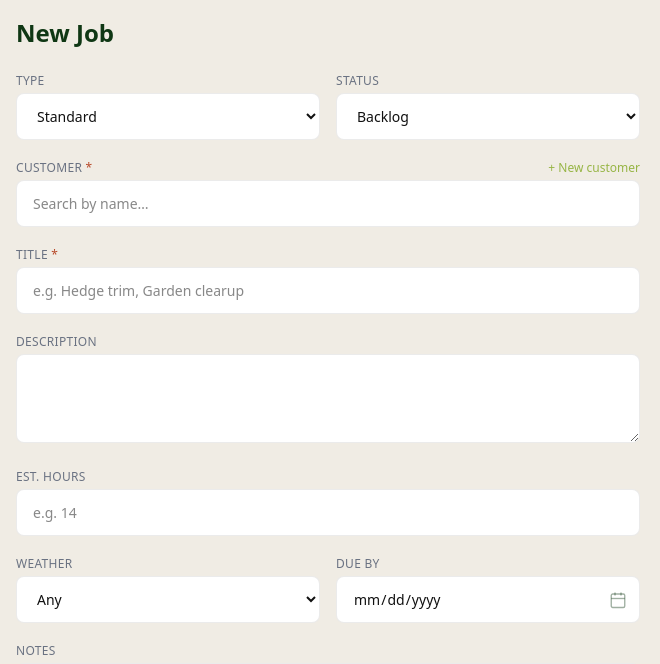
Test: JobForm — Add mode › shows scheduled date input when status is changed to scheduled
The width and height of the screenshot is (660, 664).
Check: the heading "New Job" is shown, box x1=16 y1=16 x2=114 y2=49
Select "Scheduled" in the dropdown below "Status" at (488, 116), box x1=336 y1=93 x2=640 y2=140
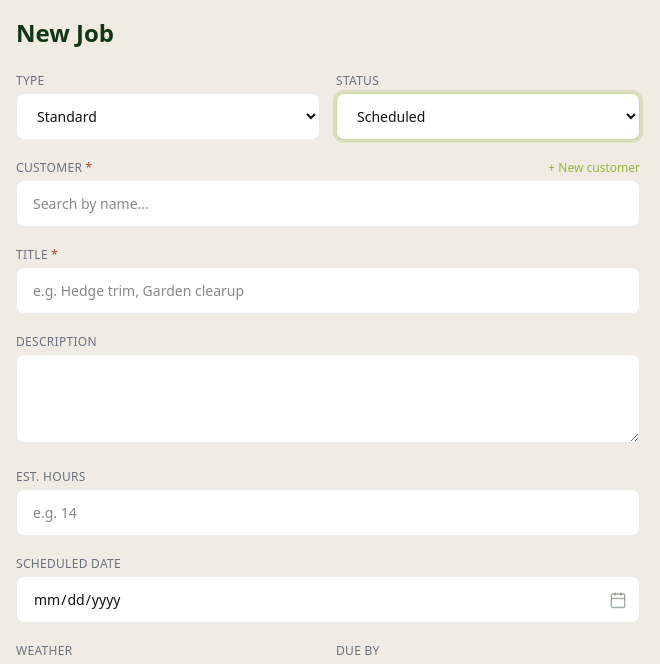
Check: the text "Scheduled Date" is shown, box x1=16 y1=555 x2=121 y2=572
